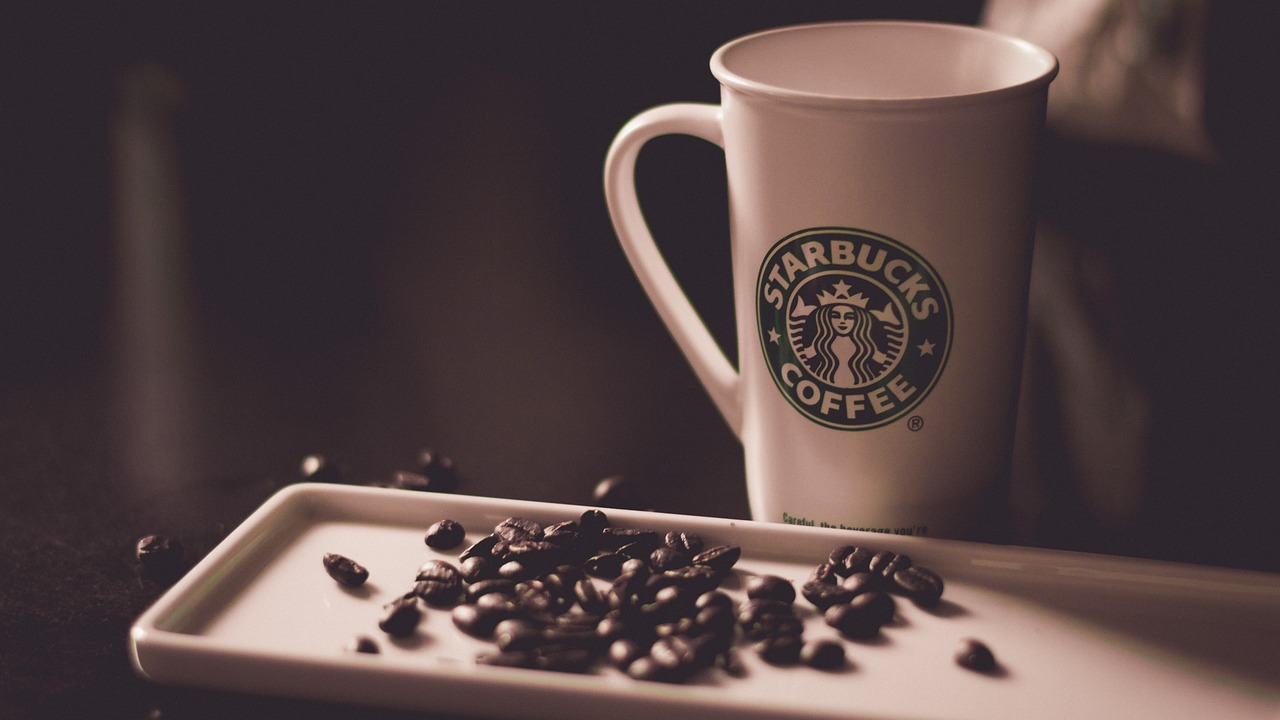mug: (598, 21, 1072, 539)
